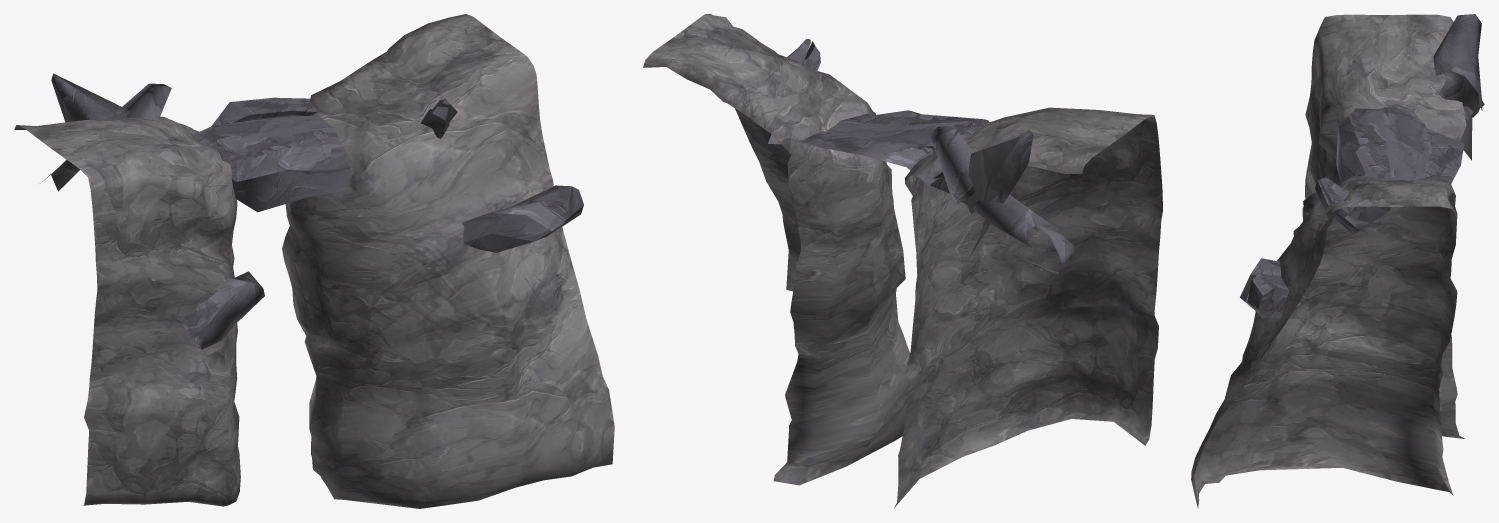
The model's file is GroundNarrowToWide1.fbx.
3 views of the same model, side by side, from view 1: azimuth 30°, elevation 25°; view 2: azimuth 150°, elevation 25°; view 3: azimuth 270°, elevation 25° (orthographic). The views are drawn at different scales.
Parts seen in each view (by area): view 1: GroundNarrowToWide1; view 2: GroundNarrowToWide1; view 3: GroundNarrowToWide1.
Boxes of the visible parts, <box> form: GroundNarrowToWide1: <box>14,14,614,508</box>; GroundNarrowToWide1: <box>643,14,1162,507</box>; GroundNarrowToWide1: <box>1191,14,1484,508</box>.
Size of the model in its own units: 10.23 by 9.09 by 6.46.
Materials: 4 (4 with a texture image).
